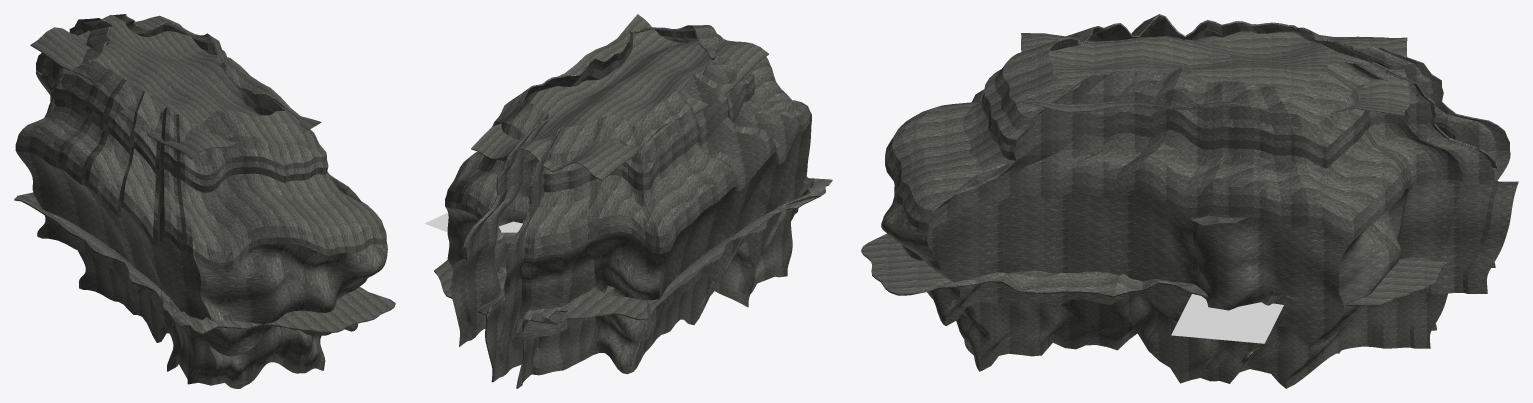
The model's file is Model_TheRavine.FBX.
The picture shows the model from 3 angles, left to right: view 1: azimuth 30°, elevation 25°; view 2: azimuth 150°, elevation 25°; view 3: azimuth 270°, elevation 25°; orthographic projection. The views are drawn at different scales.
Visible parts, largest first — view 1: tak, Box001, indrewall, Plane001; view 2: tak, Box001, indrewall, Plane001, Plane002; view 3: tak, Box001, indrewall, Plane001, Plane002.
Part boxes in pixels (x1,y1,x2,y2): tak: (15,14,387,272); Box001: (16,71,387,356); indrewall: (14,192,395,388); Plane001: (30,15,321,159); tak: (445,25,811,271); Box001: (445,121,811,356); indrewall: (434,176,832,388); Plane001: (471,14,768,180); Plane002: (424,212,522,232); tak: (885,14,1509,244); Box001: (881,150,1518,348); indrewall: (861,215,1449,388); Plane001: (1018,31,1410,116); Plane002: (1171,294,1283,343).
Size of the model in its own units: 1426 by 1290 by 2504.
Materials: 1 (1 with a texture image).
